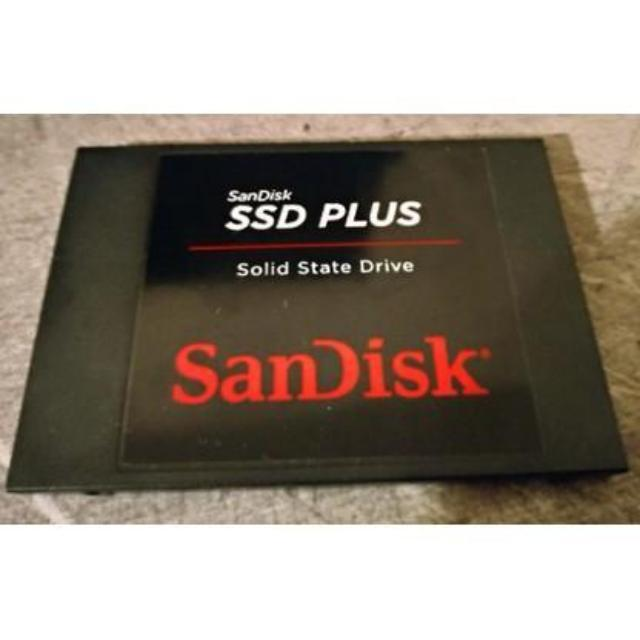DISK: (10, 136, 636, 499)
